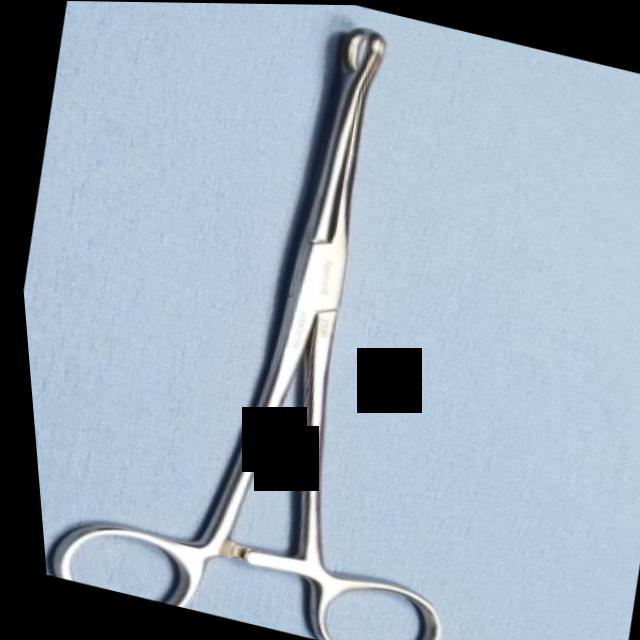Sponge Holding Forceps: (0, 0, 568, 640)
